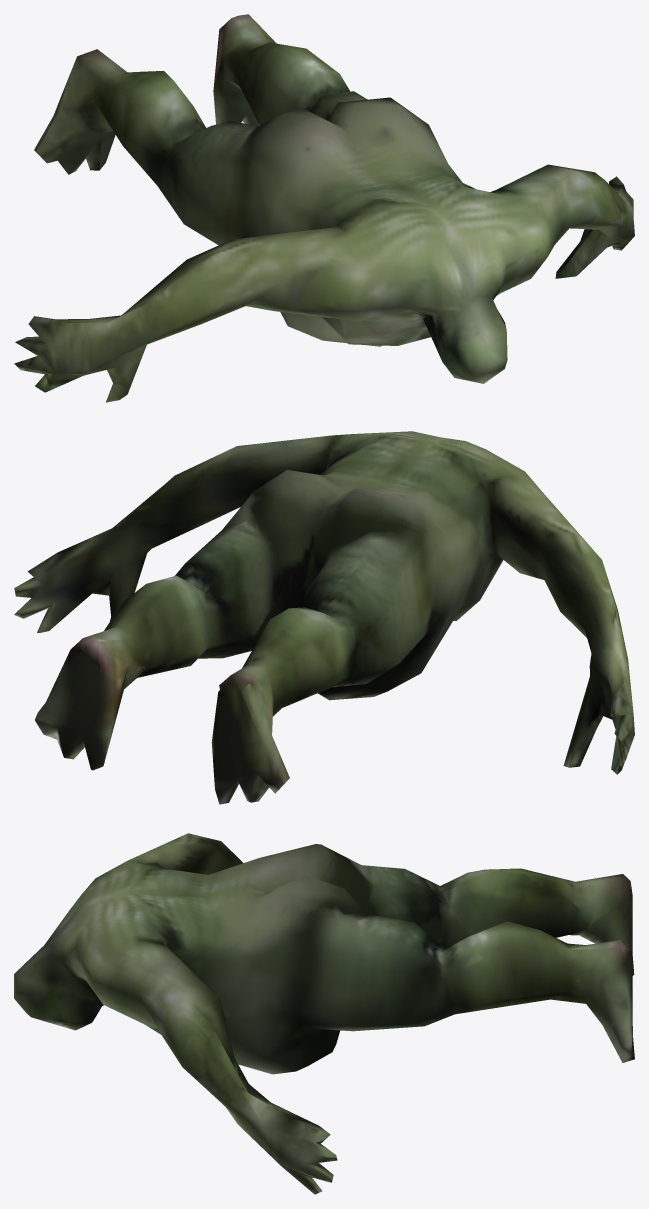
File: orc-test.glb
The picture shows the model from 3 angles, top to bottom: view 1: azimuth 30°, elevation 25°; view 2: azimuth 150°, elevation 25°; view 3: azimuth 270°, elevation 25°; orthographic projection. The views are drawn at different scales.
Visible parts, largest first — view 1: mesh_002; view 2: mesh_002; view 3: mesh_002.
Part boxes in pixels (left/top/right/bottom): mesh_002: left=14, top=14, right=634, bottom=402; mesh_002: left=14, top=431, right=634, bottom=804; mesh_002: left=14, top=833, right=634, bottom=1194.
Size of the model in its own units: 0.9978 by 0.3611 by 0.9488.
1 material, 1 textured.
